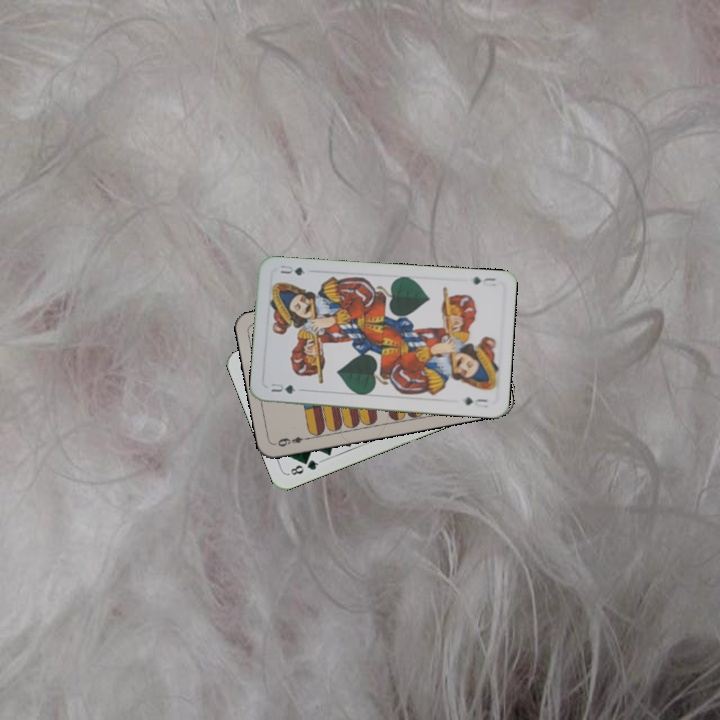E9: (273, 432, 312, 449)
G8: (285, 456, 324, 478)
GU: (267, 380, 299, 396), (468, 273, 499, 289)
